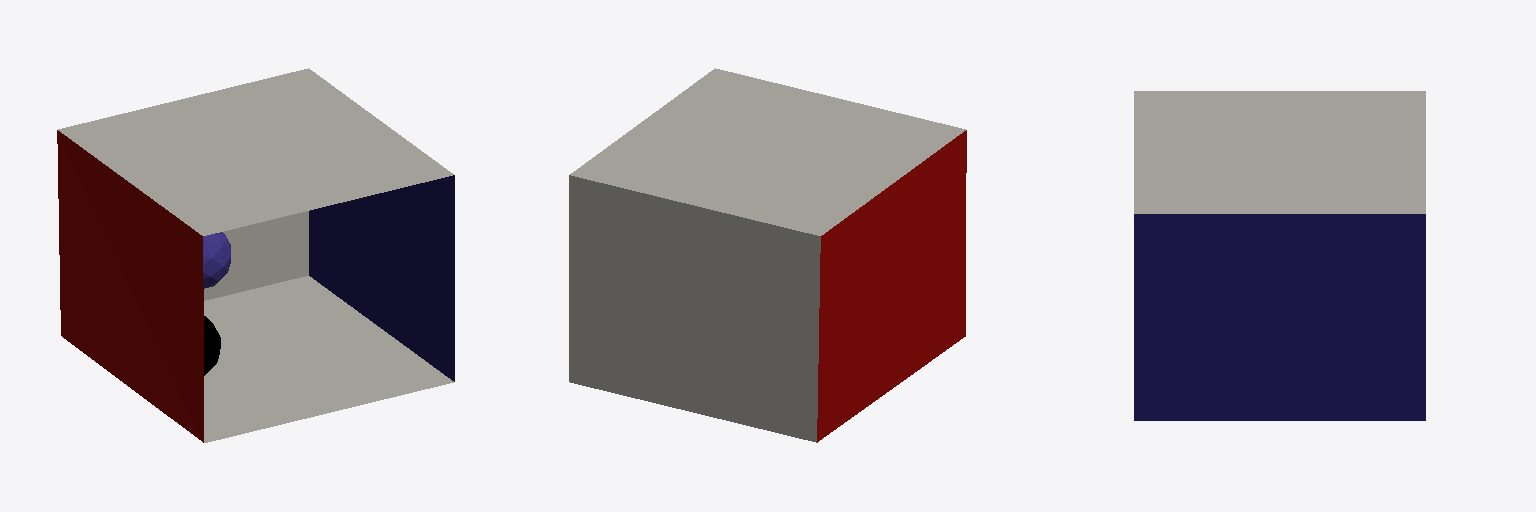
File: CornellBox-Sphere-74.obj
3 views of the same model, side by side, from view 1: azimuth 30°, elevation 25°; view 2: azimuth 150°, elevation 25°; view 3: azimuth 270°, elevation 25° (orthographic).
Parts seen in each view (by area): view 1: ceiling, leftWall, floor, rightWall, backWall, leftSphere, rightSphere; view 2: backWall, ceiling, leftWall; view 3: rightWall, ceiling.
Boxes of the visible parts, <box> form: ceiling: <box>58,68,453,235</box>; leftWall: <box>57,130,203,442</box>; floor: <box>204,276,453,442</box>; rightWall: <box>309,175,454,381</box>; backWall: <box>204,211,308,300</box>; leftSphere: <box>203,232,230,288</box>; rightSphere: <box>204,316,220,375</box>; backWall: <box>569,175,820,442</box>; ceiling: <box>570,68,965,235</box>; leftWall: <box>817,130,966,442</box>; rightWall: <box>1134,214,1425,420</box>; ceiling: <box>1134,91,1425,213</box>.
Size of the model in its own units: 2.02 by 1.59 by 2.03.